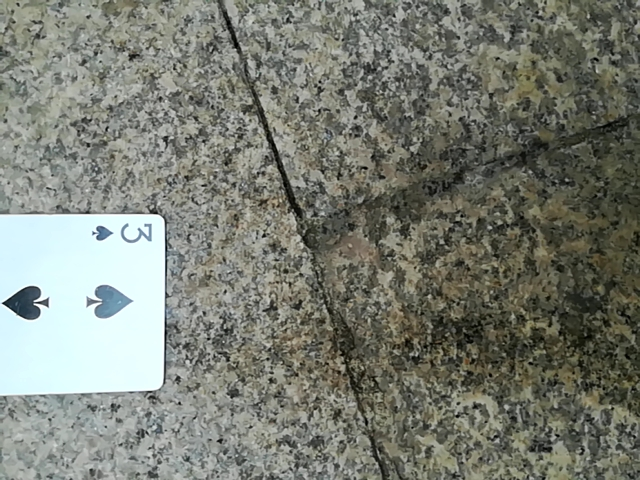ht 3: (3, 204, 167, 397)
